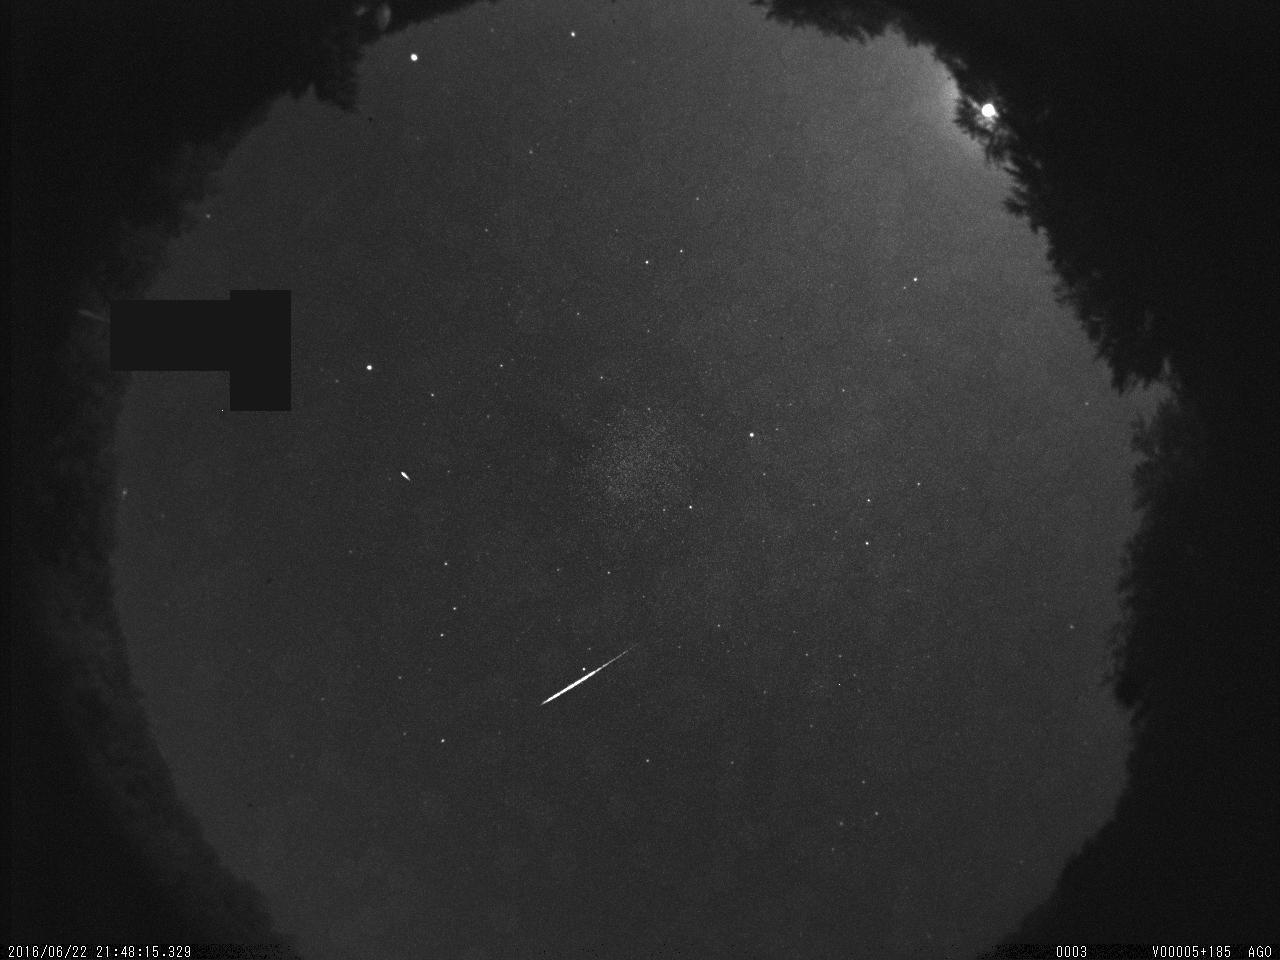meteor: (530, 629, 649, 724)
